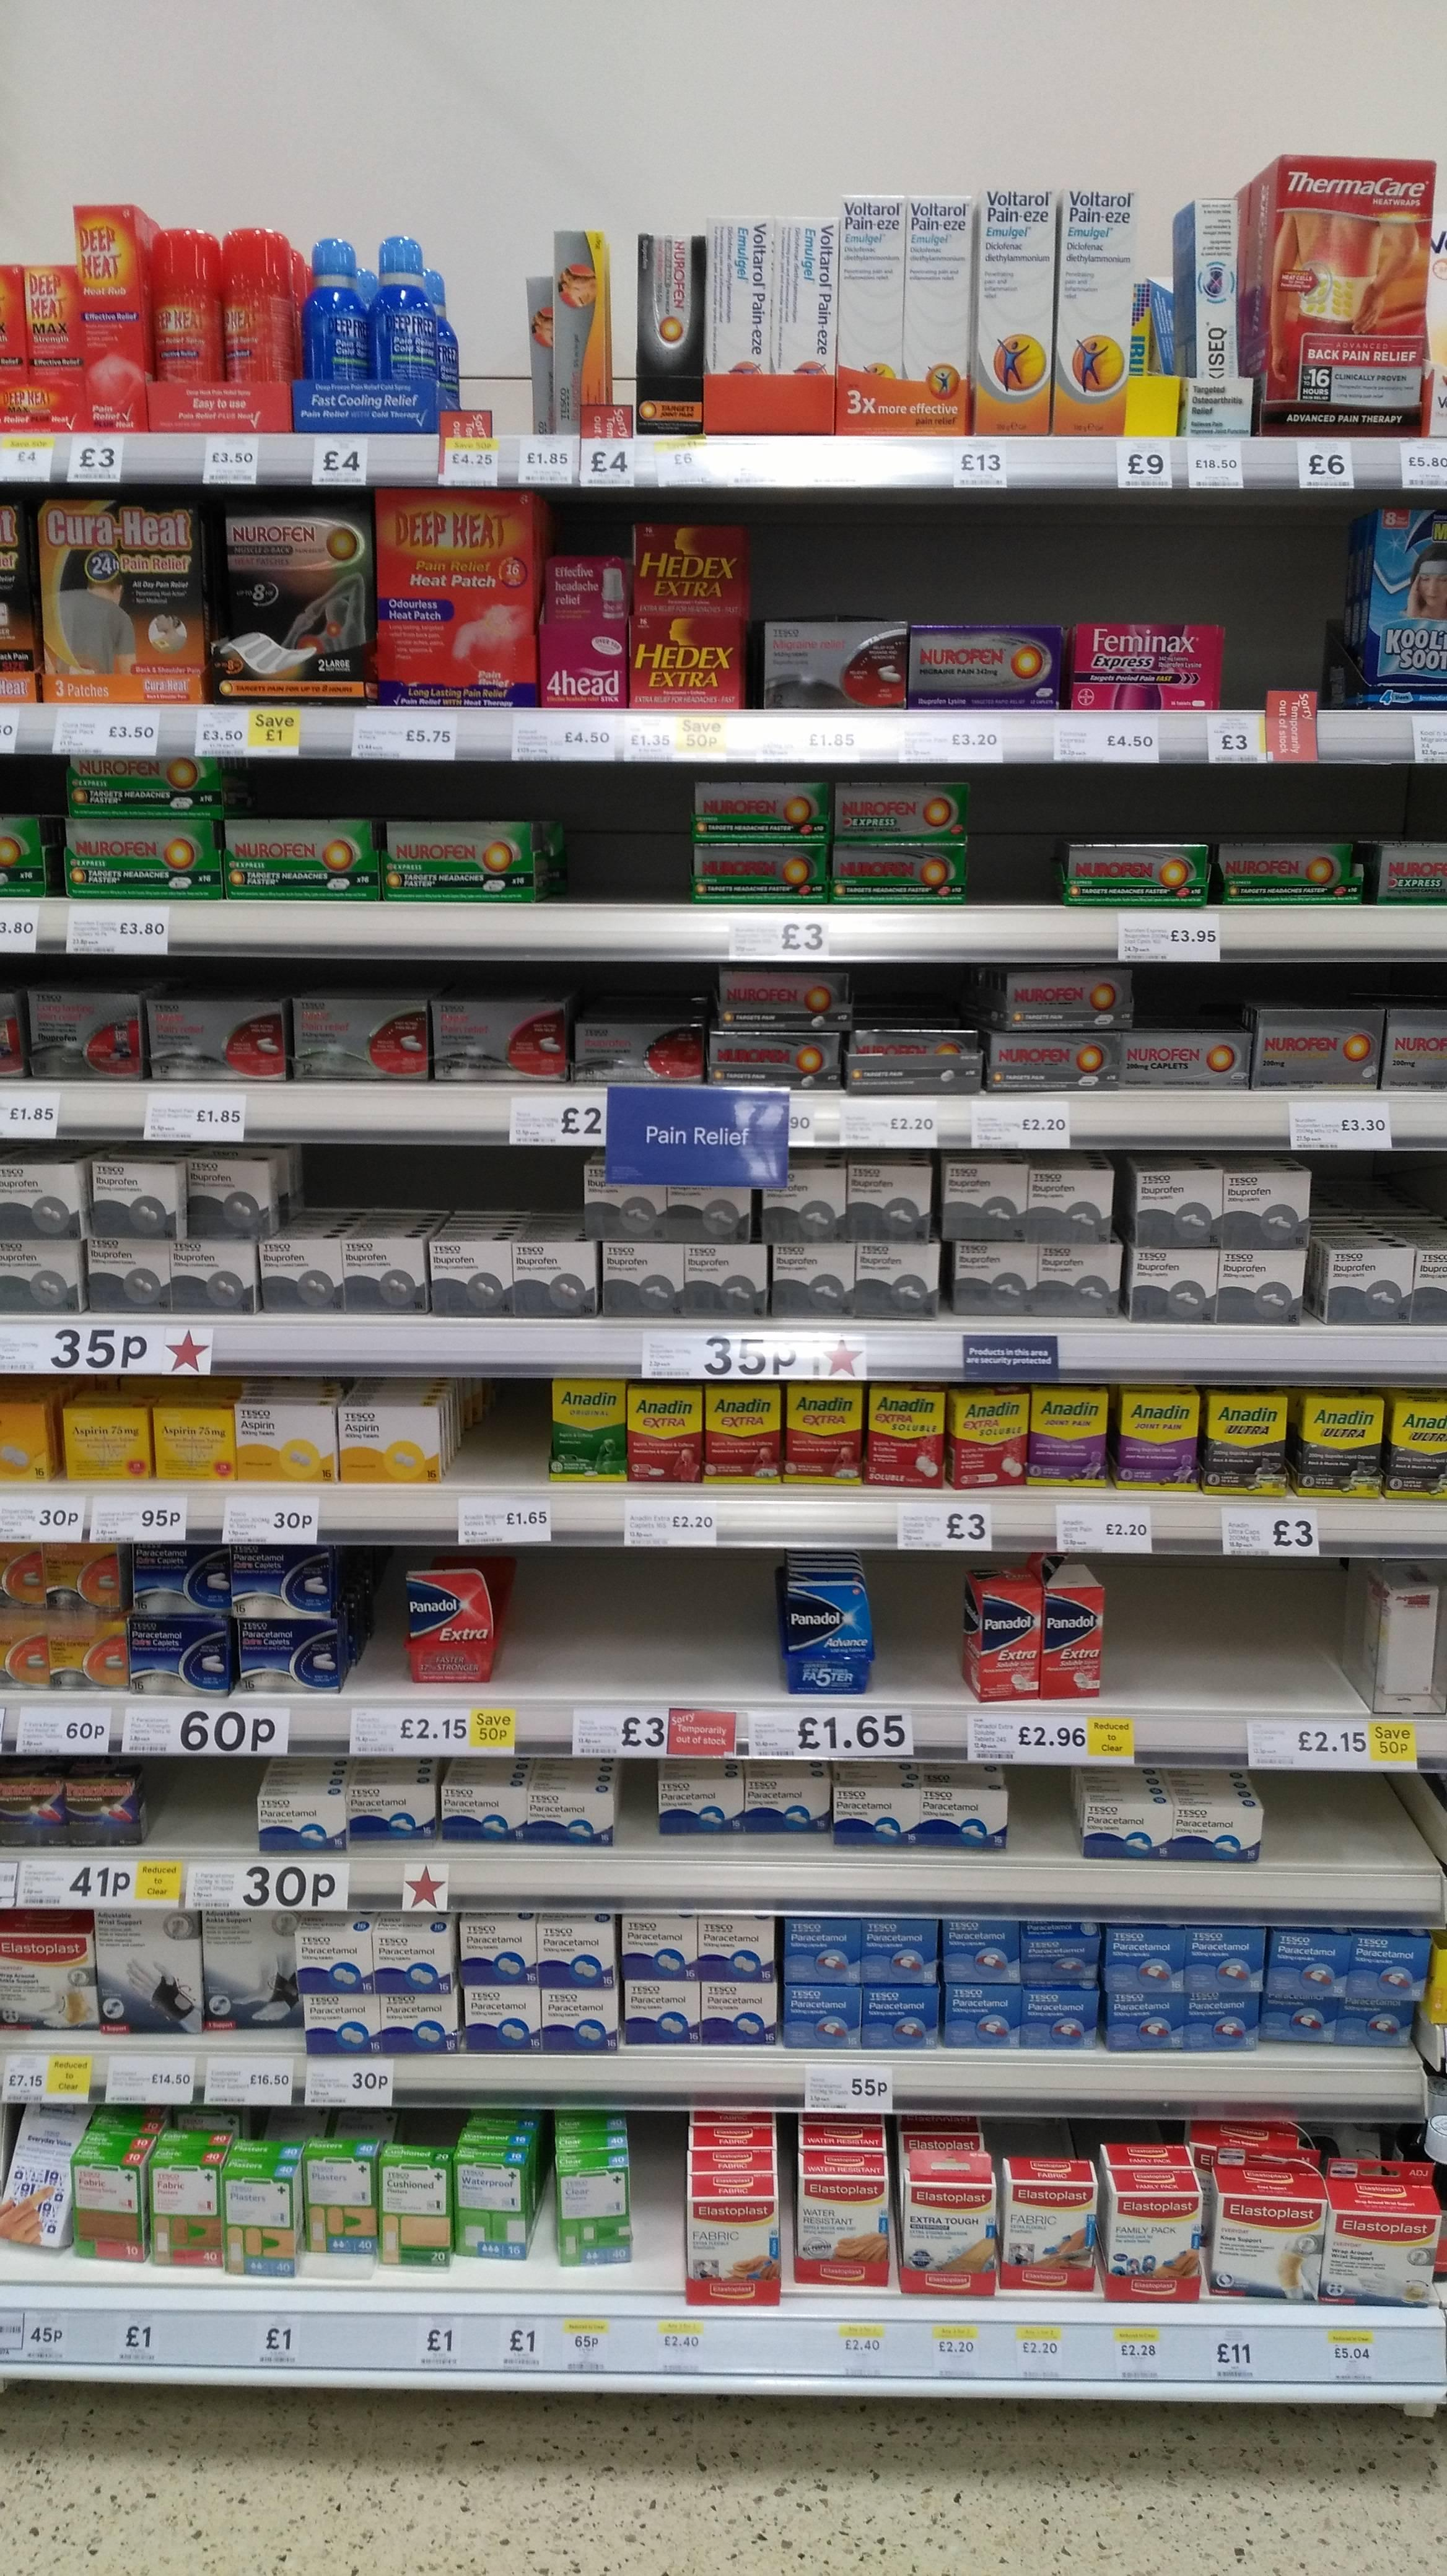empty: (1118, 1573, 1344, 1706), (612, 1569, 766, 1690), (1263, 1766, 1442, 1868), (451, 249, 536, 437), (559, 782, 692, 901), (1226, 589, 1359, 708), (874, 1568, 969, 1706), (449, 1369, 550, 1484), (504, 1568, 605, 1681), (847, 957, 985, 1037), (624, 2118, 681, 2286), (143, 1766, 255, 1851), (1008, 1762, 1086, 1863)
